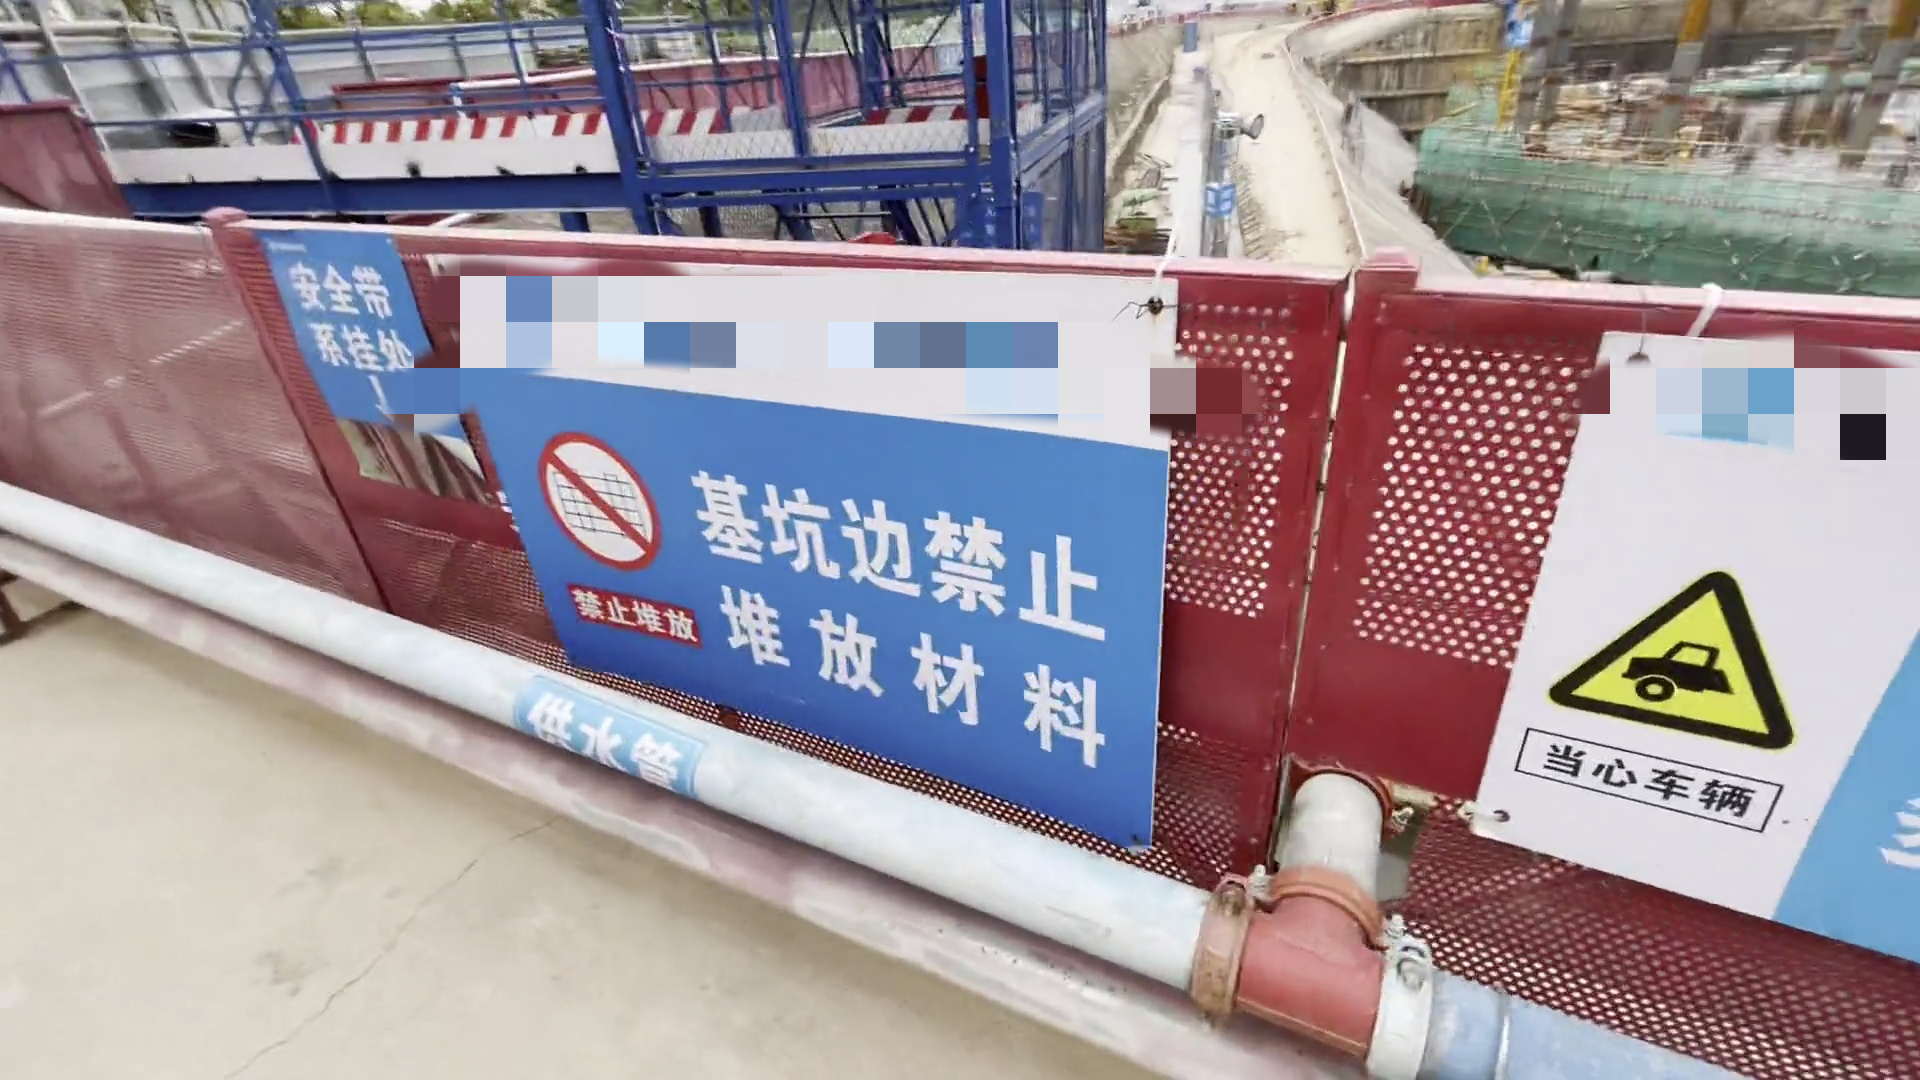fence: (1, 170, 1902, 1065), (513, 29, 967, 152)
slogan: (284, 237, 1195, 789), (1493, 360, 1920, 935), (1195, 166, 1244, 231)
